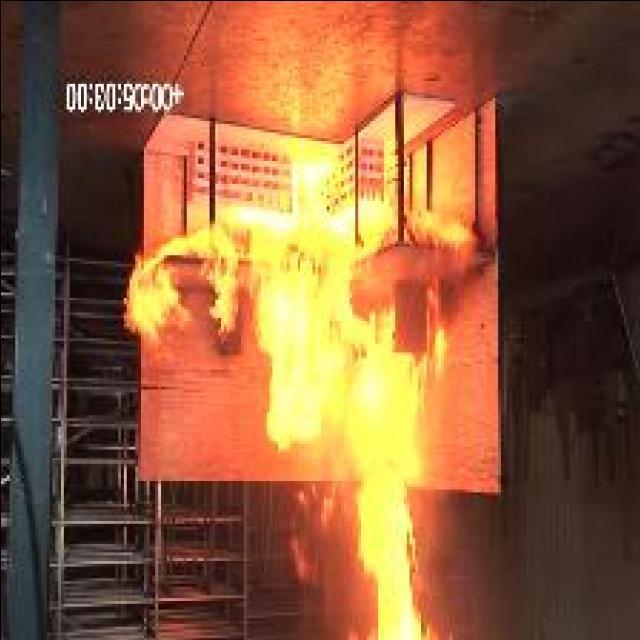Fire: (125, 160, 478, 640)
